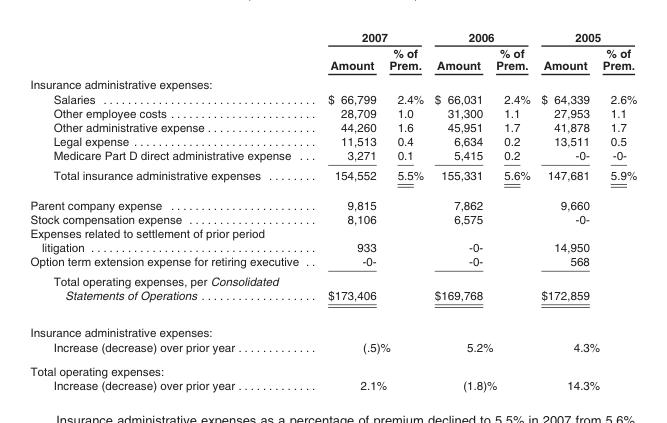table: (29, 29, 636, 392)
table column: (29, 29, 312, 392), (312, 29, 389, 392), (428, 29, 495, 392), (535, 29, 600, 392), (495, 29, 535, 392), (389, 29, 428, 392), (600, 29, 636, 392)
table column header: (29, 29, 636, 74)
table projected row header: (29, 313, 636, 339), (29, 358, 636, 378), (29, 74, 636, 91)
table row: (29, 270, 636, 313), (29, 44, 636, 74), (29, 225, 636, 254), (29, 313, 636, 339), (29, 165, 636, 189), (29, 189, 636, 211), (29, 358, 636, 378), (29, 339, 636, 358), (29, 74, 636, 91), (29, 148, 636, 165), (29, 254, 636, 270), (29, 29, 636, 44), (29, 119, 636, 134), (29, 91, 636, 105), (29, 105, 636, 119), (29, 134, 636, 148), (29, 211, 636, 225), (29, 378, 636, 392)
table spanning cell: (312, 29, 428, 44), (428, 29, 535, 44), (535, 29, 636, 44)
